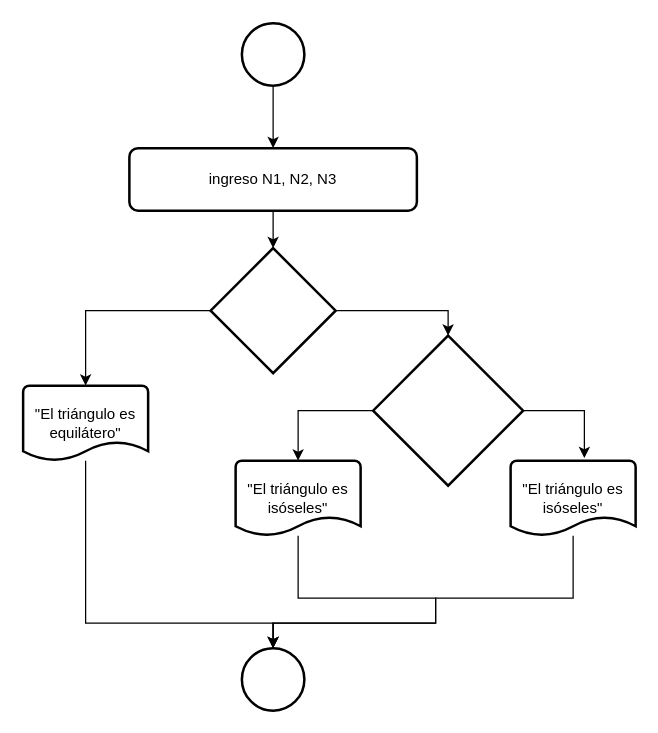
The diagram is 658 pixels wide and 733 high, and some of its shapes have lost their labels. The box of each missing label's shape, as (x1, y1, x2, y2) in pixels:
N1 == N2 && N2 == N3: (209, 246, 336, 374)
N1 == N2 || N2 == N3 || N1 == N3: (371, 334, 524, 486)
